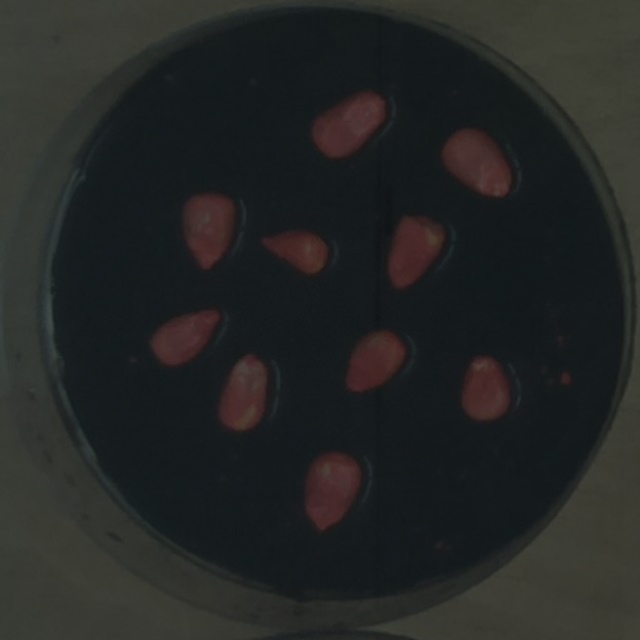Zea mays: (303, 81, 393, 165), (434, 117, 521, 203), (296, 444, 371, 537), (173, 184, 243, 275), (208, 348, 277, 438), (143, 300, 227, 372), (381, 206, 450, 293), (339, 321, 415, 399), (452, 349, 519, 427), (254, 220, 335, 281)
